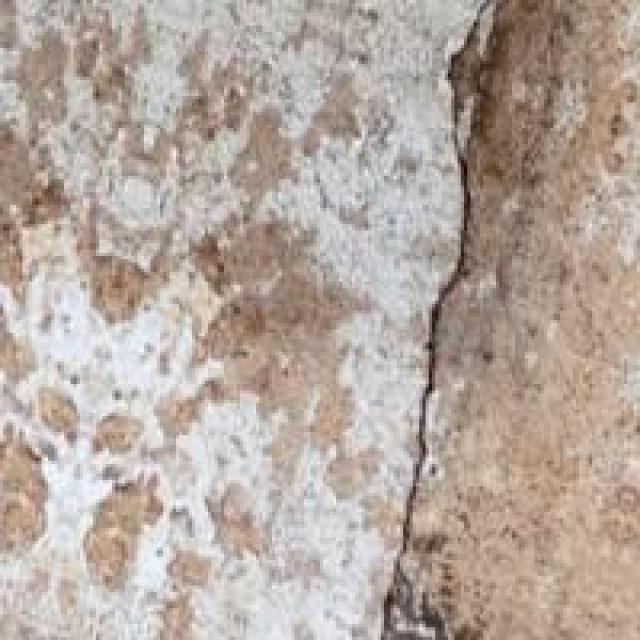crack: (368, 0, 493, 637)
